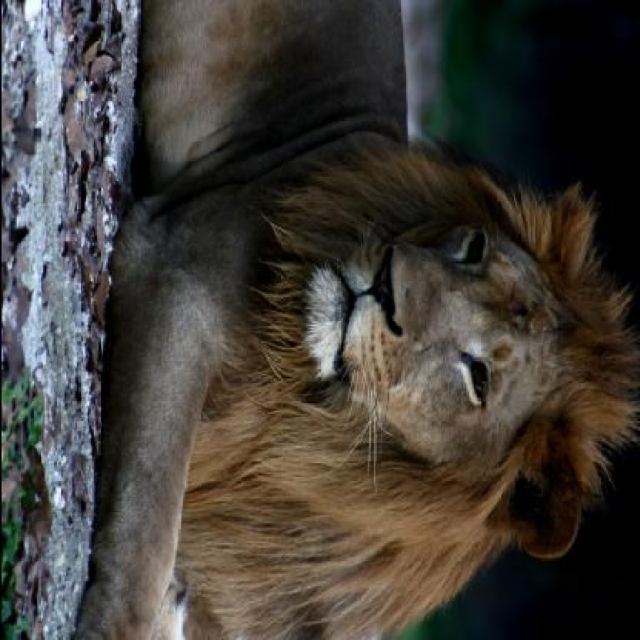Lion: (69, 3, 628, 631)
